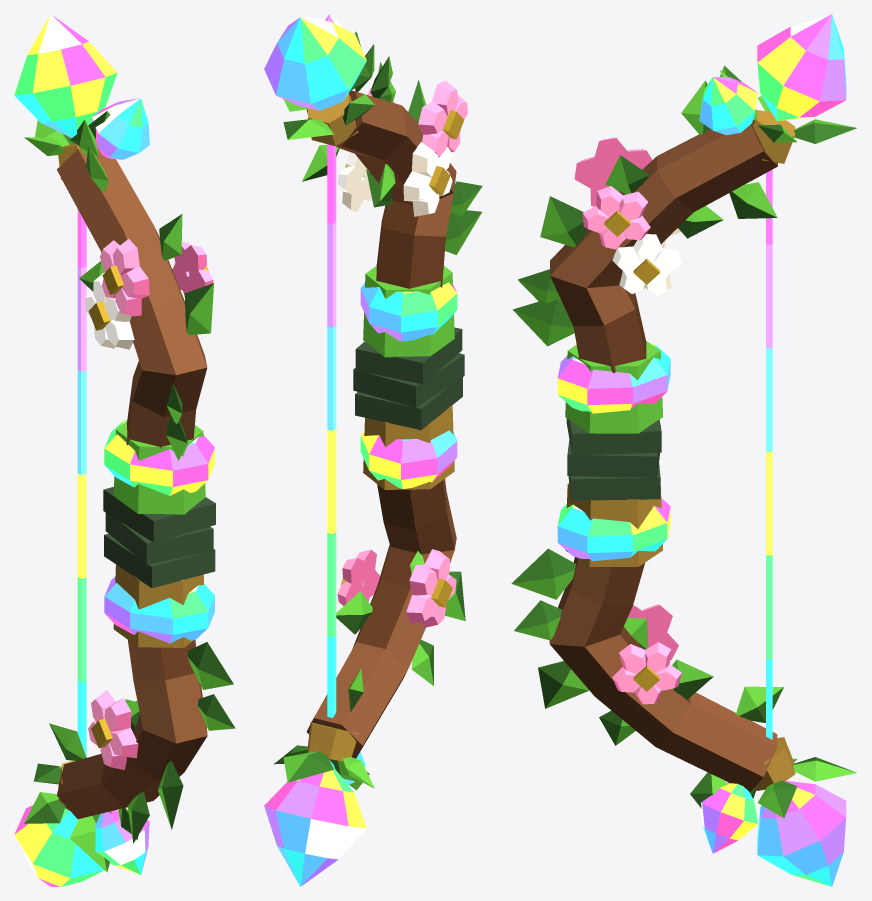
File: glade_spirit_bow.glb
3 views of the same model, side by side, from view 1: azimuth 30°, elevation 25°; view 2: azimuth 150°, elevation 25°; view 3: azimuth 270°, elevation 25° (orthographic).
Parts seen in each view (by area): view 1: UpperLimb, LowerLimb, TopCrystal, BottomCrystal, LowerLeaves, UpperLeaves, GripCrystalBandTop, GripCrystalBandBottom, GripCollarLeaf, GripWrap1, BlossomPink1, BlossomPink2 (+13 smaller); view 2: LowerLimb, UpperLimb, BottomCrystal, TopCrystal, UpperLeaves, GripCrystalBandTop, GripCrystalBandBottom, LowerLeaves, GripCollarLeaf, BlossomPink2, GripWrap1, GripWrap2 (+16 smaller); view 3: LowerLimb, UpperLimb, TopCrystal, BottomCrystal, LowerLeaves, UpperLeaves, GripCrystalBandTop, GripCrystalBandBottom, GripCollarLeaf, BlossomPinkBack2, BlossomPinkBack1, BlossomWhiteBack1 (+14 smaller).
Part boxes in pixels (bbox=[...]): UpperLimb: bbox=[57, 146, 207, 448]; LowerLimb: bbox=[57, 640, 207, 818]; TopCrystal: bbox=[14, 14, 149, 159]; BottomCrystal: bbox=[14, 805, 149, 886]; LowerLeaves: bbox=[49, 642, 235, 843]; UpperLeaves: bbox=[77, 119, 213, 460]; GripCrystalBandTop: bbox=[104, 420, 214, 495]; GripCrystalBandBottom: bbox=[104, 576, 214, 643]; GripCollarLeaf: bbox=[113, 421, 205, 514]; GripWrap1: bbox=[103, 486, 215, 542]; BlossomPink1: bbox=[100, 239, 149, 316]; BlossomPink2: bbox=[88, 690, 138, 769]; LowerLimb: bbox=[306, 479, 456, 758]; UpperLimb: bbox=[306, 90, 456, 288]; BottomCrystal: bbox=[264, 751, 366, 886]; TopCrystal: bbox=[264, 14, 366, 110]; UpperLeaves: bbox=[302, 44, 482, 254]; GripCrystalBandTop: bbox=[360, 282, 457, 341]; GripCrystalBandBottom: bbox=[360, 430, 457, 488]; LowerLeaves: bbox=[336, 551, 465, 711]; GripCollarLeaf: bbox=[363, 266, 454, 357]; BlossomPink2: bbox=[406, 549, 456, 627]; GripWrap1: bbox=[355, 327, 462, 384]; GripWrap2: bbox=[353, 353, 464, 407]; LowerLimb: bbox=[549, 557, 777, 792]; UpperLimb: bbox=[550, 121, 777, 373]; TopCrystal: bbox=[699, 14, 846, 135]; BottomCrystal: bbox=[700, 781, 846, 886]; LowerLeaves: bbox=[511, 548, 783, 808]; UpperLeaves: bbox=[512, 65, 777, 346]; GripCrystalBandTop: bbox=[557, 343, 670, 413]; GripCrystalBandBottom: bbox=[557, 498, 670, 561]; GripCollarLeaf: bbox=[565, 341, 662, 433]; BlossomPinkBack2: bbox=[612, 642, 681, 704]; BlossomPinkBack1: bbox=[582, 186, 650, 249]; BlossomWhiteBack1: bbox=[612, 234, 681, 295].
Size of the model in its own units: 0.1441 by 1.18 by 0.4244.
